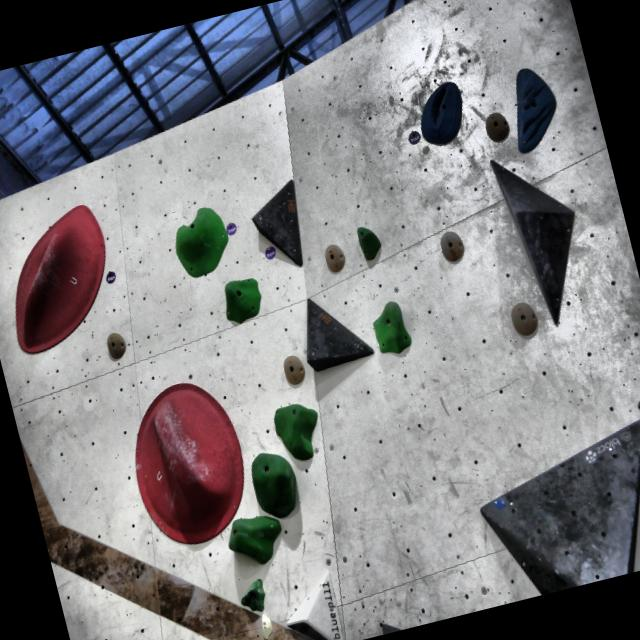Hold: (106, 358, 258, 552), (0, 201, 129, 361), (496, 54, 566, 160), (406, 69, 474, 153), (244, 445, 312, 524), (219, 505, 295, 572), (170, 204, 234, 278), (361, 293, 420, 363), (267, 400, 331, 460), (223, 574, 276, 624), (218, 274, 266, 328), (485, 489, 513, 515), (244, 631, 286, 640)
